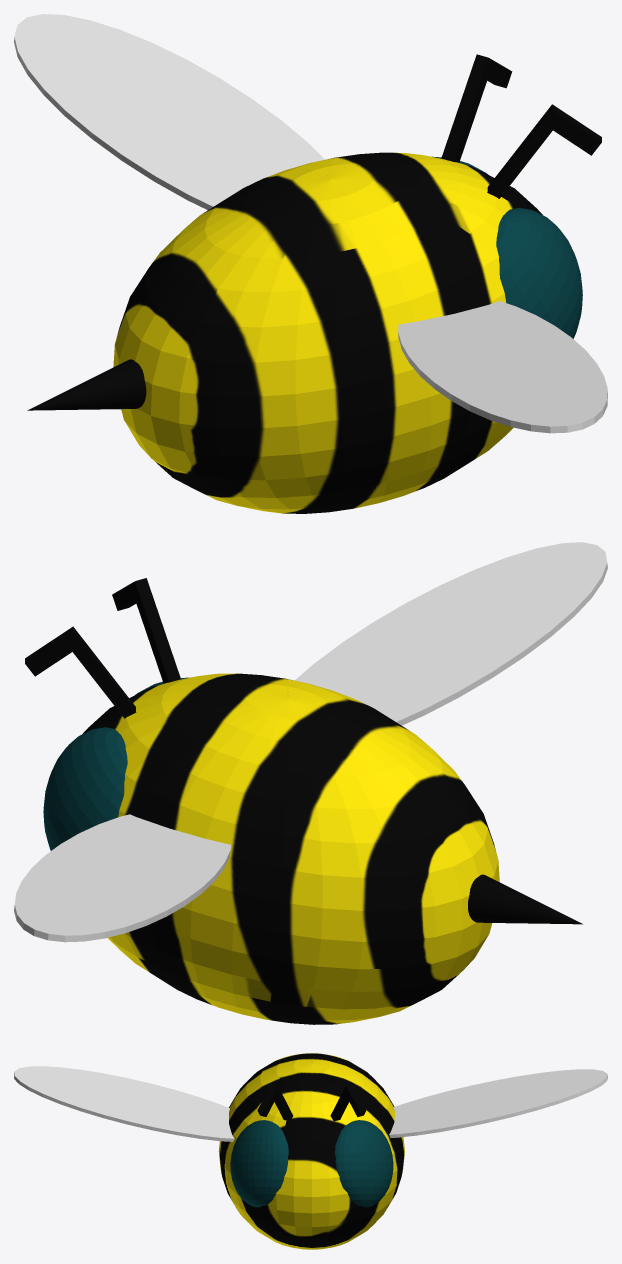
Rendered from Pchela.fbx.
3 renders of one model, top to bottom at view 1: azimuth 30°, elevation 25°; view 2: azimuth 150°, elevation 25°; view 3: azimuth 270°, elevation 25°, orthographic. The views are drawn at different scales.
Visible parts, largest first — view 1: Sphere, Cylinder.001, Cylinder, Sphere.001, Cube, Cone; view 2: Sphere, Cylinder, Cylinder.001, Sphere.001, Cube, Cone; view 3: Sphere, Cylinder, Sphere.001, Cylinder.001, Cube.
Part boxes in pixels (box(x1,y1,x2,y2)): Sphere: box(113, 152, 542, 513); Cylinder.001: box(14, 14, 324, 209); Cylinder: box(398, 301, 607, 433); Sphere.001: box(432, 156, 582, 338); Cube: box(441, 54, 601, 198); Cone: box(27, 359, 146, 410); Sphere: box(83, 673, 499, 1024); Cylinder: box(295, 542, 607, 725); Cylinder.001: box(14, 814, 230, 942); Sphere.001: box(43, 677, 188, 850); Cube: box(25, 578, 180, 718); Cone: box(468, 874, 582, 924); Sphere: box(218, 1053, 404, 1249); Cylinder: box(14, 1066, 234, 1141); Sphere.001: box(230, 1120, 393, 1207); Cylinder.001: box(389, 1069, 607, 1137); Cube: box(257, 1083, 366, 1121).
Bounding box in the file's own units: 0.1861 × 0.123 × 0.3359.
Materials: 5 (1 with a texture image).
